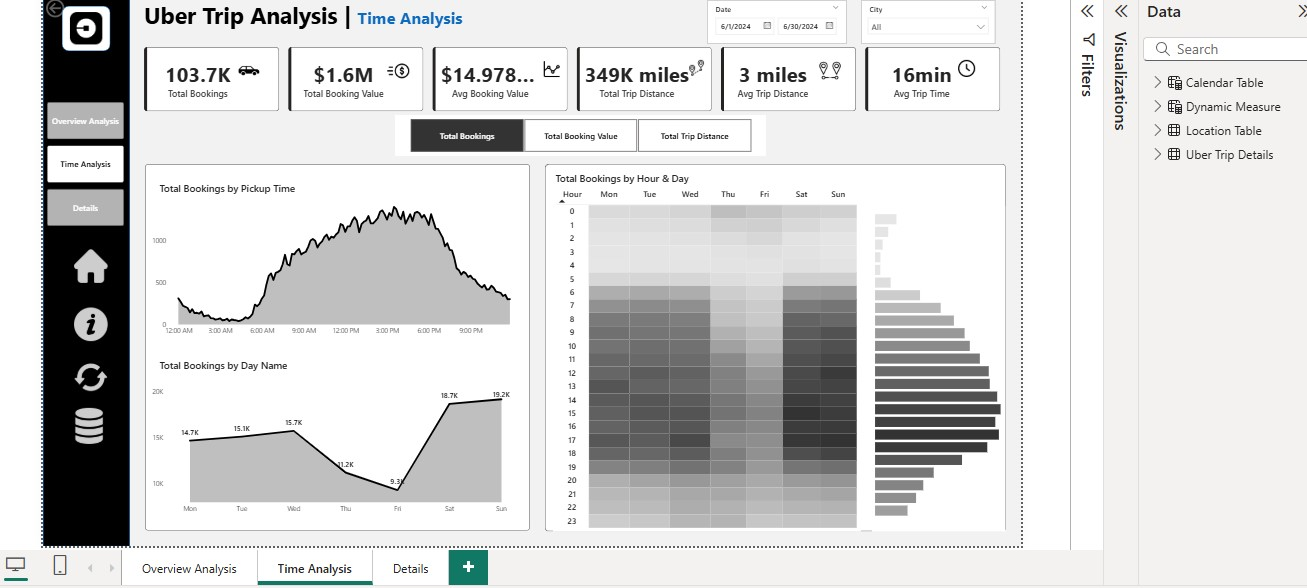

Layout of this report page (visuals, bound fields, positions):
{"tool":"powerbi","page":{"name":"Time Analysis","canvas":[1600,900],"ordinal":1},"visuals":[{"type":"shape","box":[0,0,142,900.8],"z":0},{"type":"shape","box":[30.6,16.2,79.2,73.8],"z":0,"group":"g1"},{"type":"textbox","box":[159.6,0,640.4,88.2],"z":1000},{"type":"image","box":[30.6,21.6,79.2,63],"z":1000,"group":"g1"},{"type":"cardVisual","fields":{"Data":["Uber Trip Details.Total Bookings","Uber Trip Details.Total Booking Amount","Uber Trip Details.Avg Booking Amount","Uber Trip Details.Total Trip Distance","Uber Trip Details.Avg Trip Distance","Uber Trip Details.Avg Trip Time"]},"box":[160.2,79.2,1414.8,115.2],"z":2000},{"type":"shape","box":[167.4,275.4,630,600],"z":3000},{"type":"slicer","fields":{"Values":["Dynamic Measure.Dynamic Measure"]},"box":[576,194.4,606.6,66.6],"z":4000},{"type":"slicer","fields":{"Values":["Calendar Table.Date"]},"box":[1087.2,7.2,228.6,72],"z":5000},{"type":"slicer","fields":{"Values":["Location Table.City"]},"box":[1339.2,7.2,219.6,72],"z":6000},{"type":"areaChart","fields":{"Y":["Uber Trip Details.Total Bookings"],"Category":["Uber Trip Details.Pickup Hour (HH MM SS) (bins)"]},"box":[172.8,331.2,615.6,235.8],"z":7000},{"type":"cardVisual","fields":{"Data":["Uber Trip Details.Title for by Pickup Time"]},"box":[172.8,275.4,322.2,68.4],"z":8000},{"type":"areaChart","fields":{"Y":["Uber Trip Details.Total Bookings"],"Category":["Calendar Table.Day Name"]},"box":[172.8,633.6,615.6,223.2],"z":9000},{"type":"cardVisual","fields":{"Data":["Uber Trip Details.Title for by Day Name"]},"box":[172.8,565.2,322.2,68.4],"z":10000},{"type":"shape","box":[820.8,275.4,754.2,601.2],"z":11000},{"type":"pivotTable","fields":{"Values":["Uber Trip Details.Total Bookings"],"Rows":["Uber Trip Details.Pickup Hour"],"Columns":["Calendar Table.Day Name"]},"box":[835.2,309.6,504,567],"z":12000},{"type":"actionButton","box":[0,0,100,40],"z":13000},{"type":"cardVisual","fields":{"Data":["Uber Trip Details.Title for by Hour & Day"]},"box":[820.8,261,316.8,55.8],"z":14000},{"type":"barChart","fields":{"Y":["Uber Trip Details.Total Bookings"],"Category":["Uber Trip Details.Pickup Hour"]},"box":[1357.2,343.8,217.8,532.8],"z":15000},{"type":"group","id":"g1","title":"Group 1","box":[30.6,16.2,79.2,73.8],"z":16000},{"type":"pageNavigator","box":[7.2,172.8,126,205.2],"z":17000},{"type":"image","box":[45,406.8,64.8,68.4],"z":18000},{"type":"image","box":[45,500.4,64.8,72],"z":19000},{"type":"image","box":[45,592.2,64.8,63],"z":20000},{"type":"image","box":[40.9,666,68.8,74.4],"z":21000}]}

Visuals, with their boxes on the page's 1600x900 design canvas (x1, y1, x2, y2). These are canvas units, not pixel positions in the 1307x588 screenshot, which may show the page scaled, cropped or inside an application window:
shape: <box>0,0,142,901</box>
shape: <box>31,16,110,90</box>
textbox: <box>160,0,800,88</box>
image: <box>31,22,110,85</box>
cardVisual - Uber Trip Details.Total Bookings x Uber Trip Details.Total Booking Amount: <box>160,79,1575,194</box>
shape: <box>167,275,797,875</box>
slicer - Dynamic Measure.Dynamic Measure: <box>576,194,1183,261</box>
slicer - Calendar Table.Date: <box>1087,7,1316,79</box>
slicer - Location Table.City: <box>1339,7,1559,79</box>
areaChart - Uber Trip Details.Total Bookings x Uber Trip Details.Pickup Hour (HH MM SS) (bins): <box>173,331,788,567</box>
cardVisual - Uber Trip Details.Title for by Pickup Time: <box>173,275,495,344</box>
areaChart - Uber Trip Details.Total Bookings x Calendar Table.Day Name: <box>173,634,788,857</box>
cardVisual - Uber Trip Details.Title for by Day Name: <box>173,565,495,634</box>
shape: <box>821,275,1575,877</box>
pivotTable - Uber Trip Details.Total Bookings x Uber Trip Details.Pickup Hour: <box>835,310,1339,877</box>
actionButton: <box>0,0,100,40</box>
cardVisual - Uber Trip Details.Title for by Hour & Day: <box>821,261,1138,317</box>
barChart - Uber Trip Details.Total Bookings x Uber Trip Details.Pickup Hour: <box>1357,344,1575,877</box>
"Group 1" group: <box>31,16,110,90</box>
pageNavigator: <box>7,173,133,378</box>
image: <box>45,407,110,475</box>
image: <box>45,500,110,572</box>
image: <box>45,592,110,655</box>
image: <box>41,666,110,740</box>
